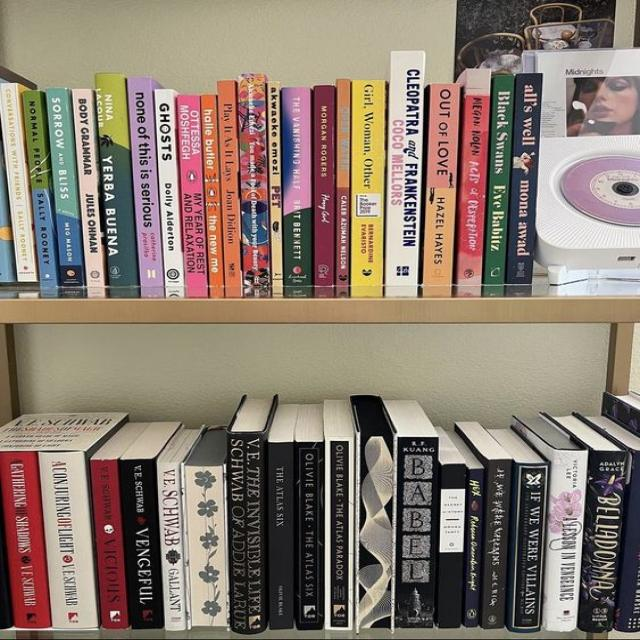book: (36, 452, 100, 629), (95, 73, 138, 287), (386, 51, 425, 285), (578, 451, 627, 634), (0, 451, 49, 628), (541, 449, 588, 631), (395, 437, 438, 628), (455, 70, 492, 286), (506, 73, 543, 285), (127, 77, 164, 287), (181, 464, 227, 630), (229, 431, 266, 634), (423, 83, 460, 283), (0, 83, 37, 281), (70, 89, 107, 286), (350, 79, 385, 285), (237, 74, 271, 286), (120, 458, 162, 629), (47, 88, 83, 285), (22, 91, 58, 287), (509, 463, 549, 633), (89, 459, 128, 630), (482, 74, 513, 283), (176, 95, 208, 287), (281, 87, 312, 285), (324, 436, 354, 631), (154, 89, 183, 286), (294, 441, 324, 630), (481, 459, 512, 630), (157, 462, 188, 629), (218, 81, 241, 286), (440, 463, 467, 629), (270, 441, 293, 630), (201, 95, 223, 286), (314, 86, 332, 286), (335, 79, 351, 287), (464, 469, 483, 628), (269, 82, 282, 286)
